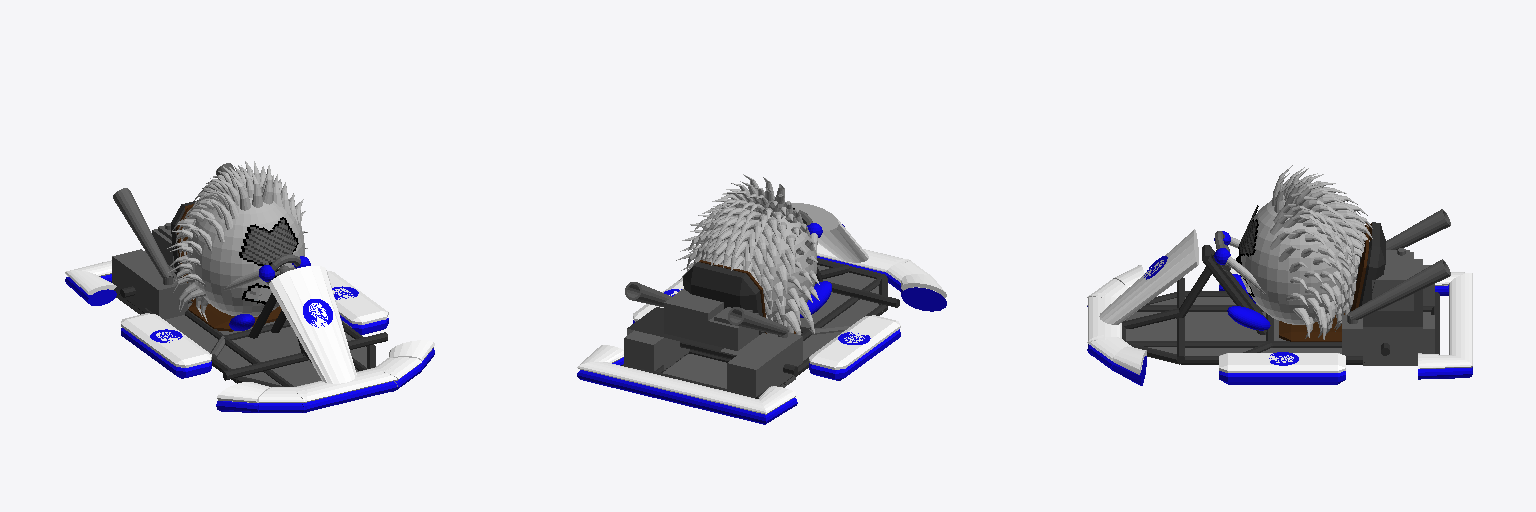
3 renders of one model, left to right at view 1: azimuth 30°, elevation 25°; view 2: azimuth 150°, elevation 25°; view 3: azimuth 270°, elevation 25°, orthographic.
Parts seen in each view (by area): view 1: cylinder, plane, sphere, beveled_cuboid, cone, cuboid, tube; view 2: cylinder, cone, plane, cuboid, beveled_cuboid, sphere, tube; view 3: cylinder, cone, plane, sphere, beveled_cuboid, cuboid, tube.
Boxes of the visible parts, x1=… form: cylinder: x1=65, y1=223, x2=434, y2=412; plane: x1=115, y1=217, x2=358, y2=386; sphere: x1=187, y1=198, x2=310, y2=330; beveled_cuboid: x1=121, y1=200, x2=388, y2=378; cone: x1=167, y1=161, x2=307, y2=321; cuboid: x1=112, y1=225, x2=187, y2=319; tube: x1=113, y1=163, x2=234, y2=284; cylinder: x1=577, y1=203, x2=946, y2=424; cone: x1=676, y1=174, x2=819, y2=334; plane: x1=627, y1=208, x2=875, y2=389; cuboid: x1=624, y1=289, x2=802, y2=396; beveled_cuboid: x1=633, y1=260, x2=900, y2=380; sphere: x1=710, y1=212, x2=831, y2=321; tube: x1=625, y1=282, x2=788, y2=337; cylinder: x1=1087, y1=229, x2=1472, y2=385; cone: x1=1270, y1=165, x2=1372, y2=339; plane: x1=1126, y1=205, x2=1430, y2=365; sphere: x1=1214, y1=196, x2=1348, y2=330; beveled_cuboid: x1=1219, y1=222, x2=1385, y2=384; cuboid: x1=1342, y1=250, x2=1434, y2=355; tube: x1=1347, y1=209, x2=1450, y2=323.
Bounding box in the file's own units: 1.87 × 1.36 × 2.84.
5 materials, 5 textured.